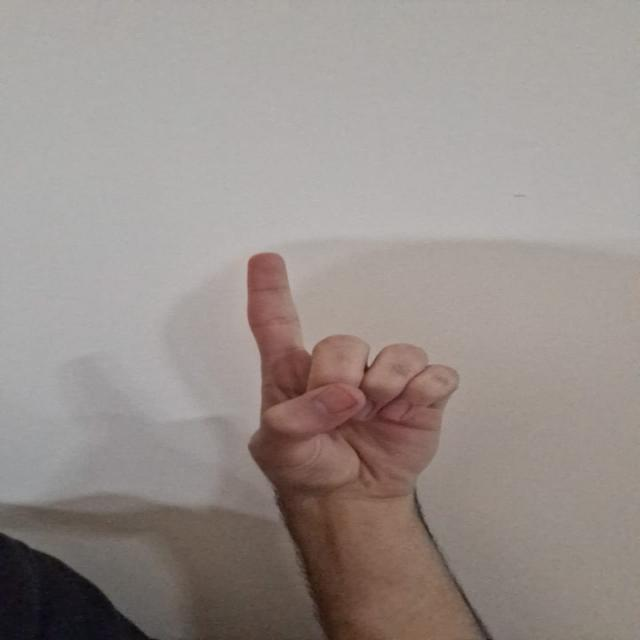D2: (231, 243, 468, 505)
